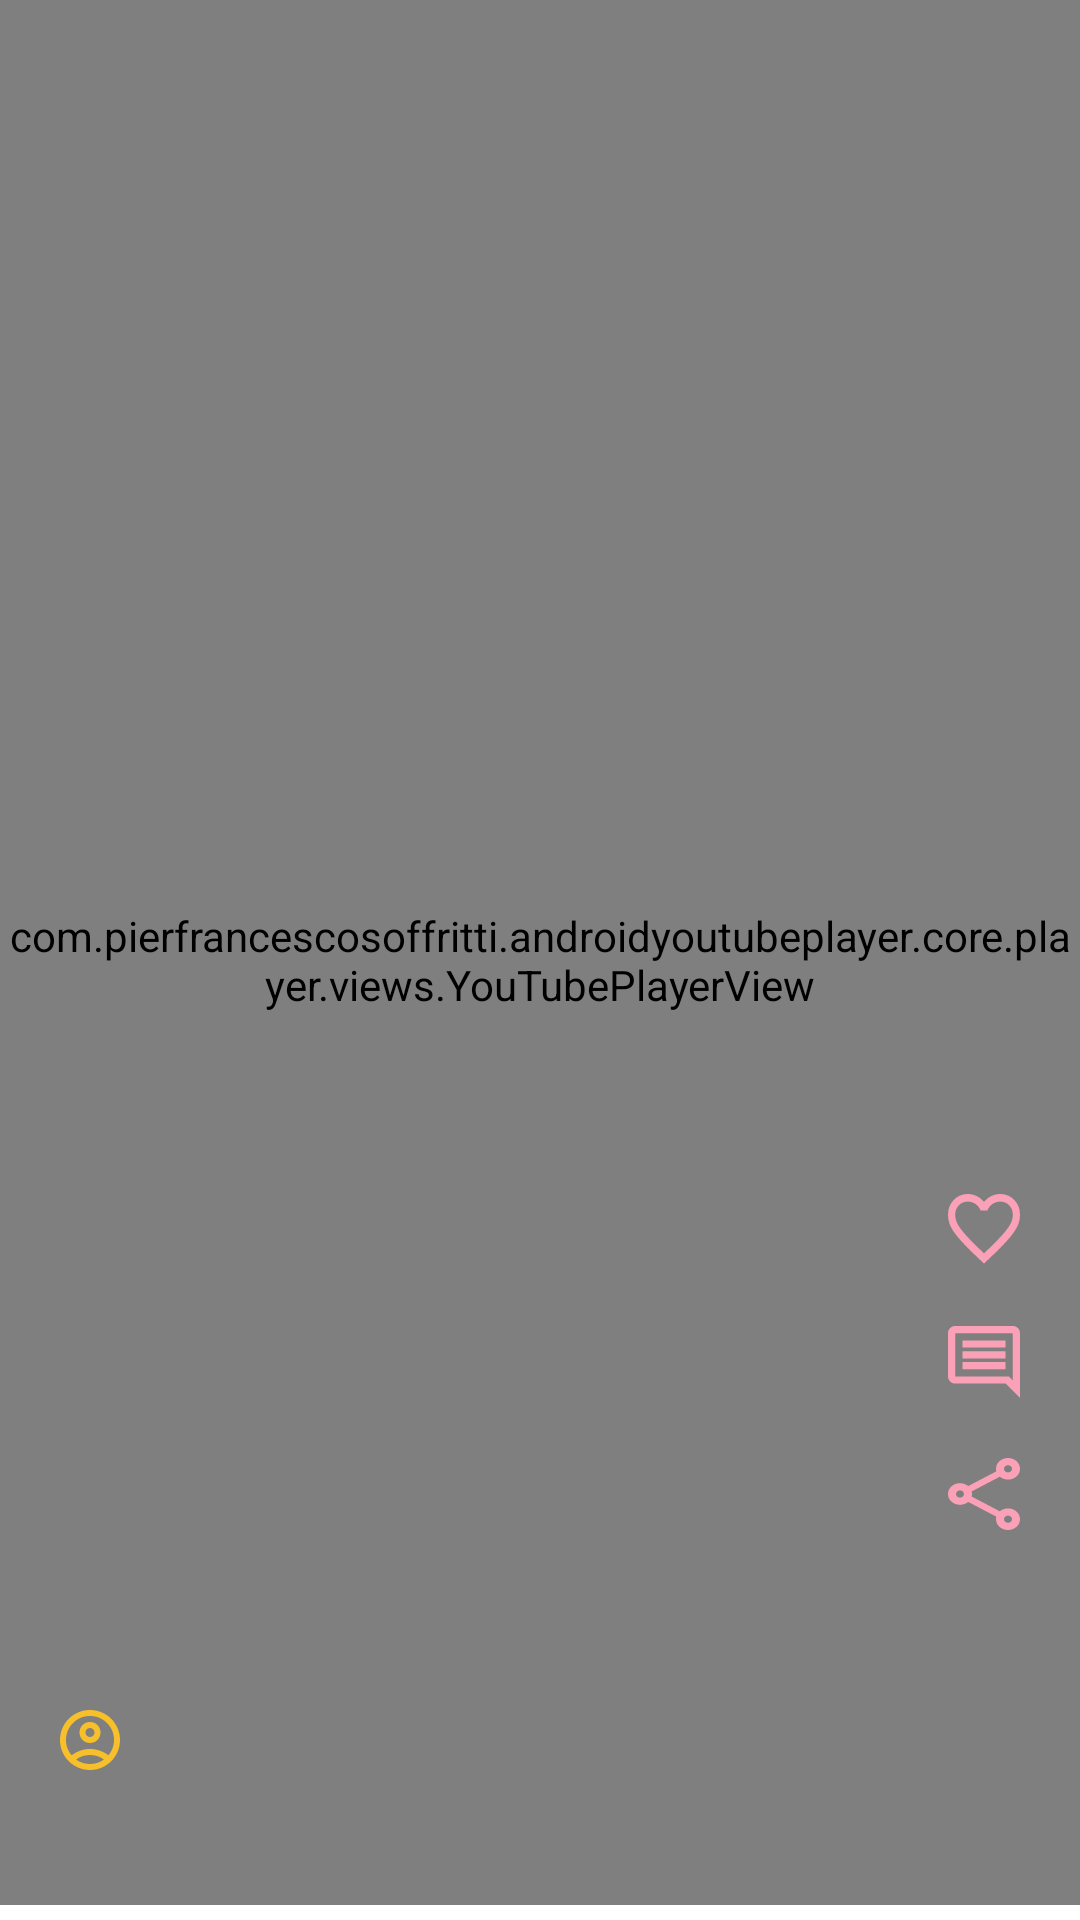

Icons on this 1080w x 1920h Android screen, each with its box as (x1, y1, x2, y2):
comment: (948, 1326, 1020, 1398)
profile: (60, 1710, 120, 1770)
share: (948, 1458, 1020, 1530)
